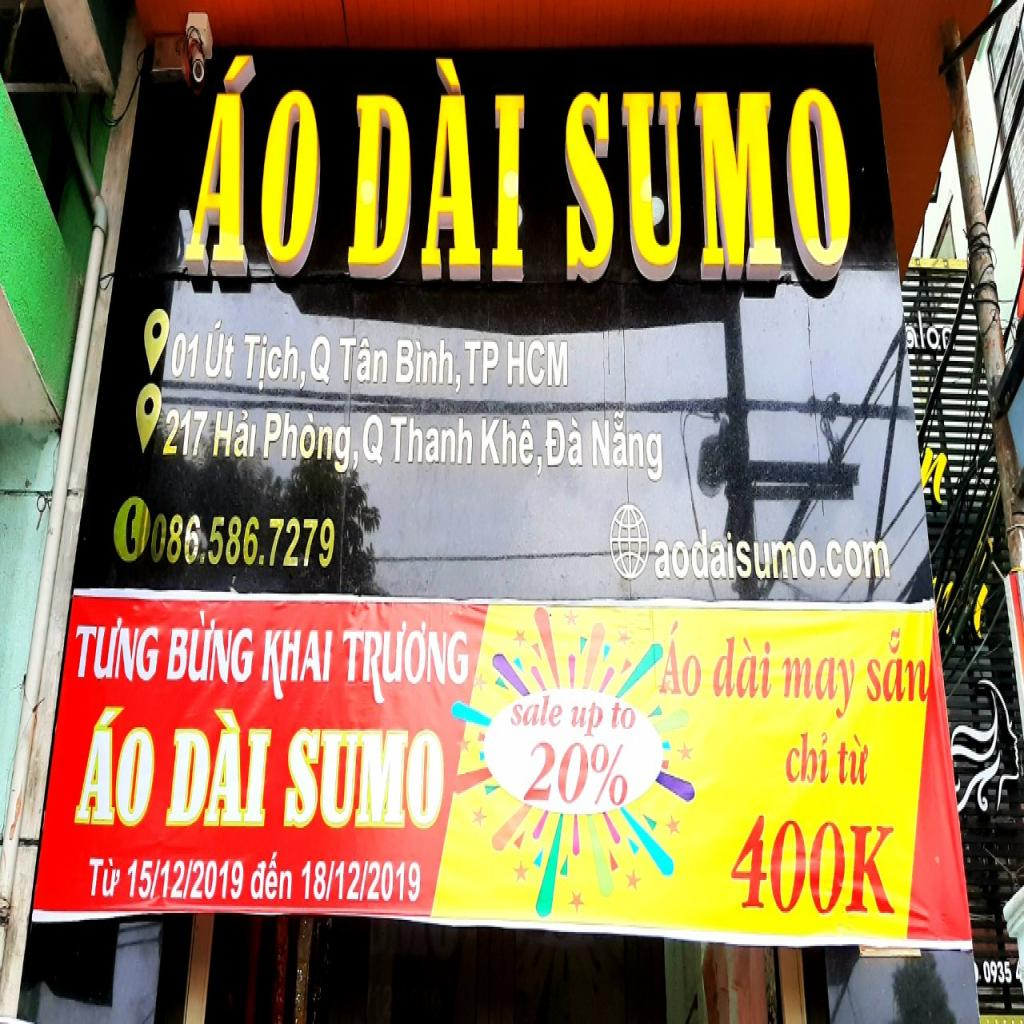text: (564, 82, 857, 276), (344, 54, 531, 283), (182, 48, 331, 270), (281, 724, 449, 838), (163, 700, 278, 836), (654, 524, 894, 585), (726, 808, 849, 922), (340, 614, 471, 715), (147, 507, 337, 574), (72, 700, 161, 833), (520, 738, 636, 810), (165, 606, 258, 687), (261, 406, 361, 477), (70, 611, 162, 687), (863, 614, 931, 715), (590, 401, 666, 486), (124, 852, 246, 904), (258, 623, 335, 705), (781, 653, 859, 727), (844, 816, 898, 920), (388, 410, 475, 468), (240, 328, 310, 396), (394, 333, 464, 399), (710, 632, 774, 704), (480, 410, 545, 480), (657, 618, 706, 701), (506, 333, 571, 392), (782, 724, 832, 790), (210, 405, 260, 465), (338, 333, 391, 387), (162, 404, 211, 462), (834, 724, 871, 795), (248, 849, 295, 904), (917, 443, 951, 519), (544, 410, 585, 472), (464, 328, 501, 394), (204, 318, 238, 387), (510, 690, 564, 730), (904, 304, 942, 356), (306, 328, 336, 392), (168, 328, 202, 384), (85, 854, 124, 902), (360, 408, 388, 470), (568, 700, 606, 741), (608, 698, 638, 734), (982, 954, 1014, 986)
